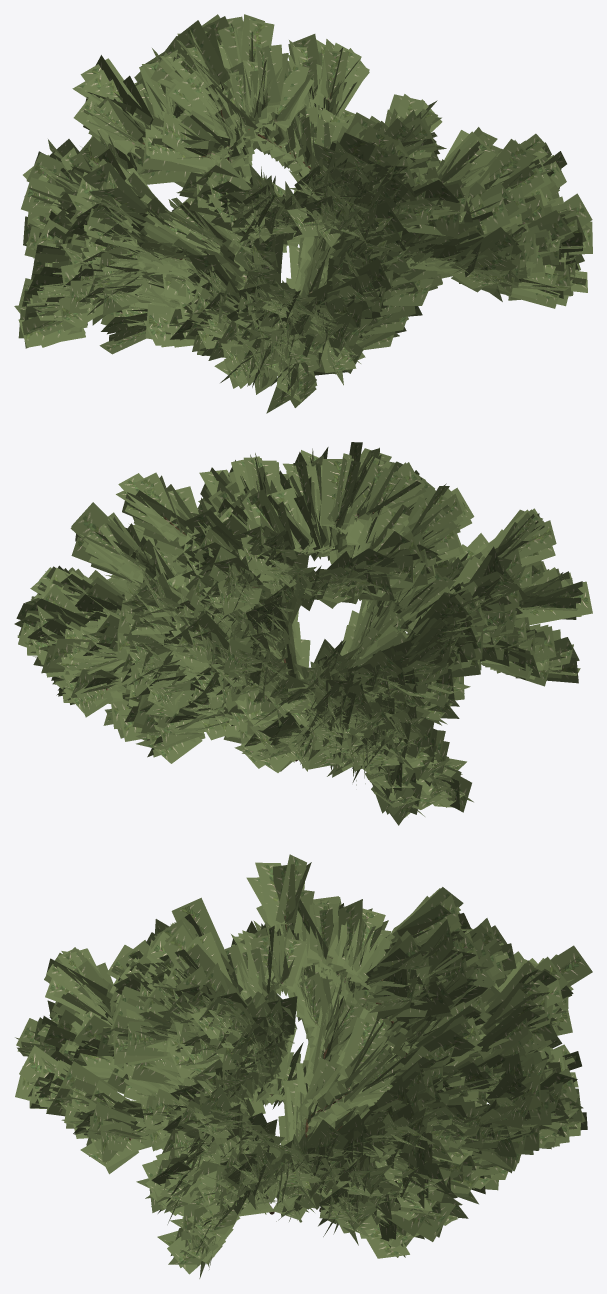
The model's file is thorn_scrub_v01.fbx.
3 renders of one model, top to bottom at view 1: azimuth 30°, elevation 25°; view 2: azimuth 150°, elevation 25°; view 3: azimuth 270°, elevation 25°, orthographic. The views are drawn at different scales.
Visible parts, largest first — view 1: thorn_scrub_v01; view 2: thorn_scrub_v01; view 3: thorn_scrub_v01.
Boxes of the visible parts, bbox=[...] form: thorn_scrub_v01: bbox=[14, 14, 592, 413]; thorn_scrub_v01: bbox=[14, 442, 592, 825]; thorn_scrub_v01: bbox=[15, 854, 592, 1278].
Size of the model in its own units: 271 by 150 by 256.
Materials: 2 (2 with a texture image).
